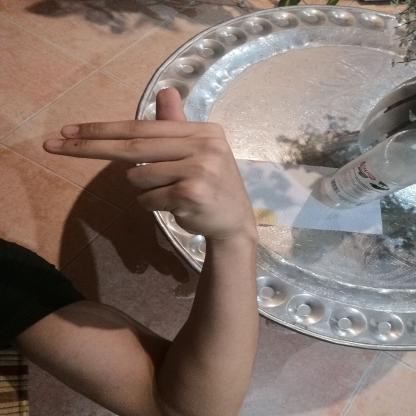GHAYN: (26, 75, 274, 243)
